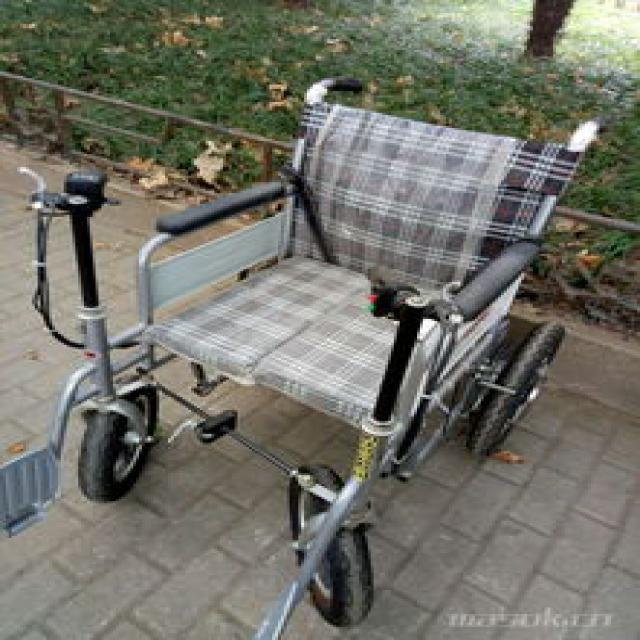wheelchair: (0, 67, 614, 625)
